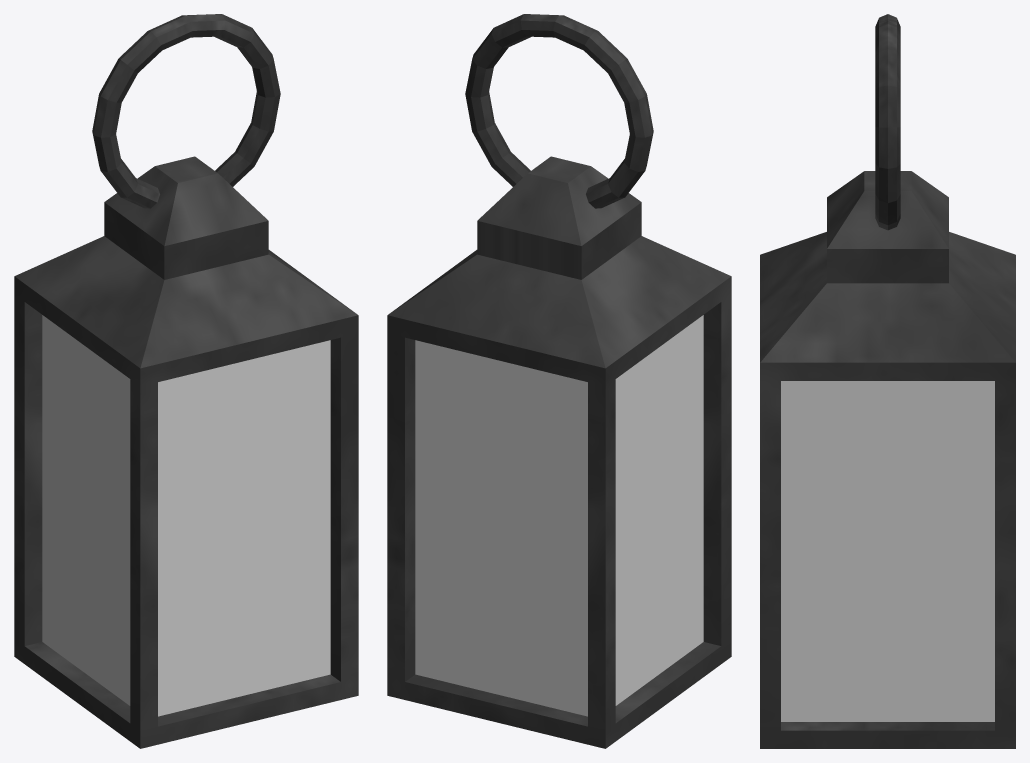
Rendered from Lantern(Model).fbx.
3 views of the same model, side by side, from view 1: azimuth 30°, elevation 25°; view 2: azimuth 150°, elevation 25°; view 3: azimuth 270°, elevation 25° (orthographic).
Visible parts, largest first — view 1: Lantern, Glass; view 2: Lantern, Glass; view 3: Glass, Lantern.
Part boxes in pixels (box(x1,y1,x2,y2)): Lantern: box(14, 14, 358, 748); Glass: box(42, 315, 330, 716); Lantern: box(387, 14, 731, 748); Glass: box(415, 315, 703, 716); Glass: box(781, 381, 994, 721); Lantern: box(760, 14, 1015, 748).
Size of the model in its own units: 200 by 579 by 200.
